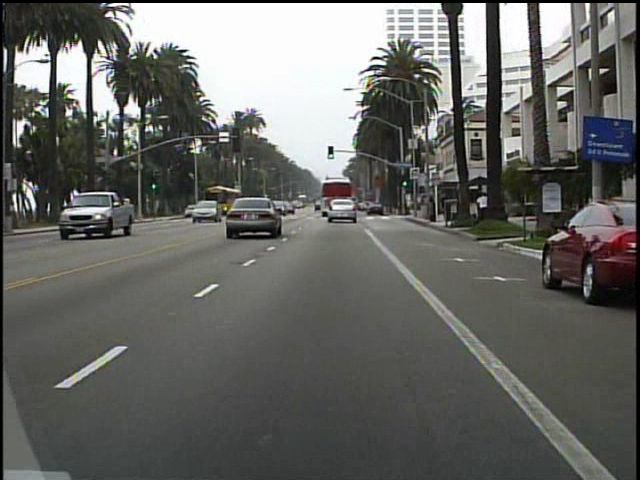person: (474, 191, 492, 225)
